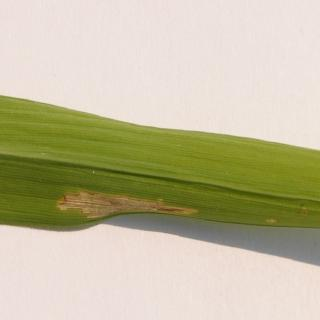Hawar-Daun: (51, 181, 202, 226), (262, 211, 279, 229)
